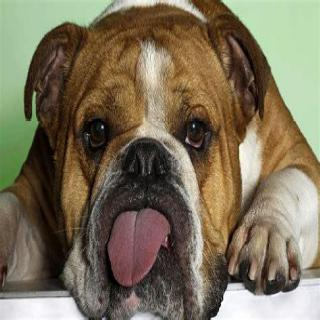dog: (25, 6, 308, 320)
